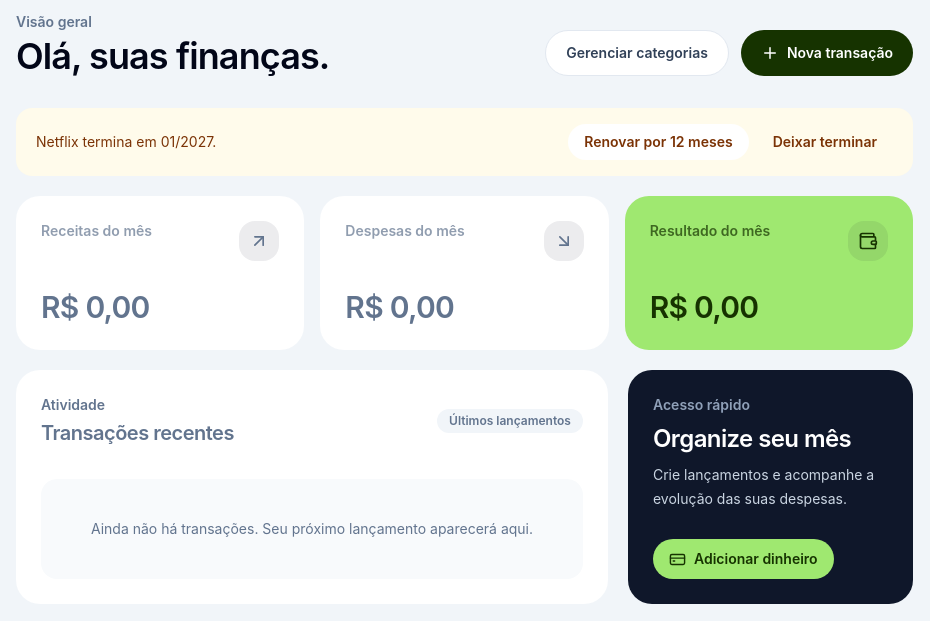
Test: DashboardPage › avisa a recorrência que está acabando e renova por 12 meses
expect the text "Netflix termina em 01/2027." is shown: met, box [36,132,216,152]
Step 1. Click the button "Renovar por 12 meses" → {"x": 658, "y": 142}, box [568,124,749,160]
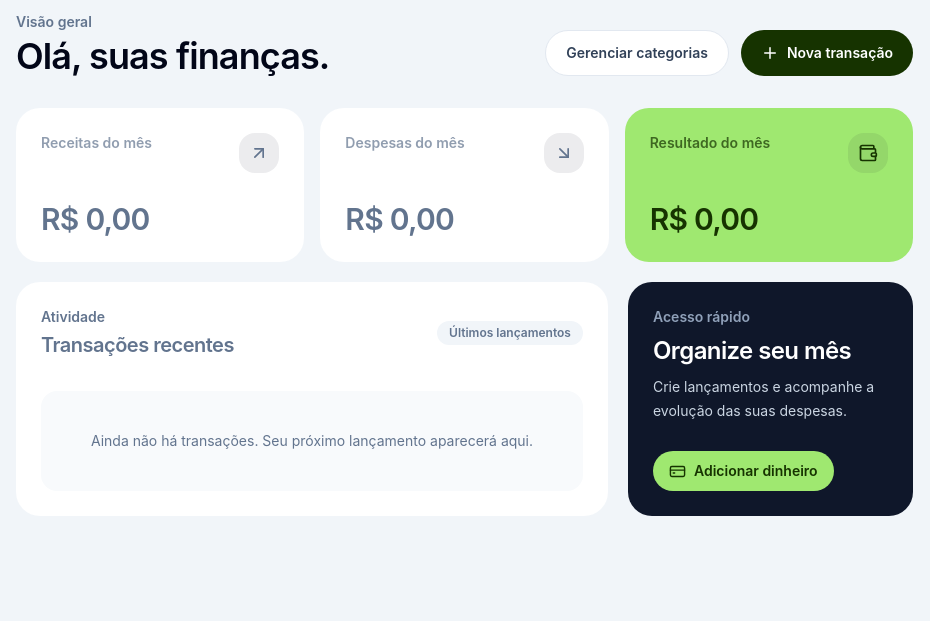
expect the text "Netflix termina" is gone: met
